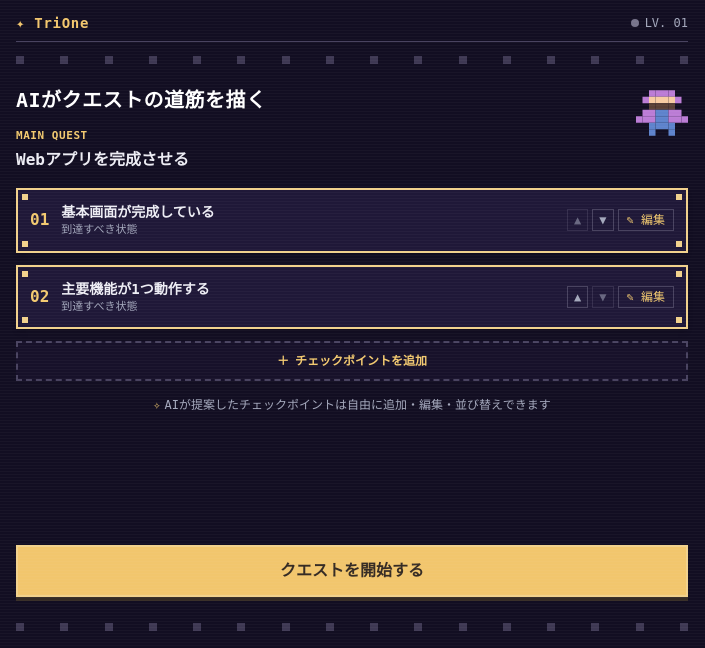
Test: CheckpointGenerationScreen › チェックポイント編集中に「キャンセル」ボタンまたは Esc キーを押すと編集前の状態に戻る
Click the button "✎ 編集" in the row of "基本画面が完成している" at {"x": 646, "y": 220}, box [618, 209, 674, 231]
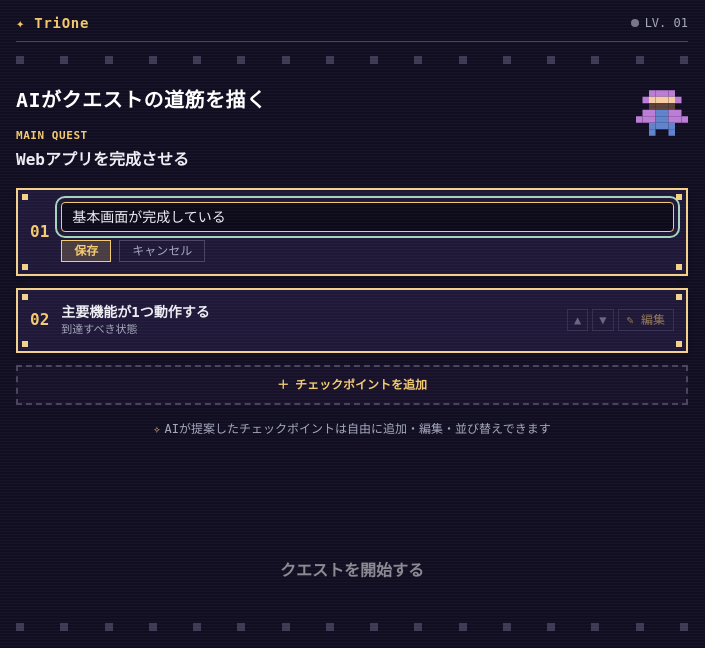
Replace the text in the field showing "基本画面が完成している" with "途中の変更" at {"x": 368, "y": 217}, box [61, 202, 674, 232]
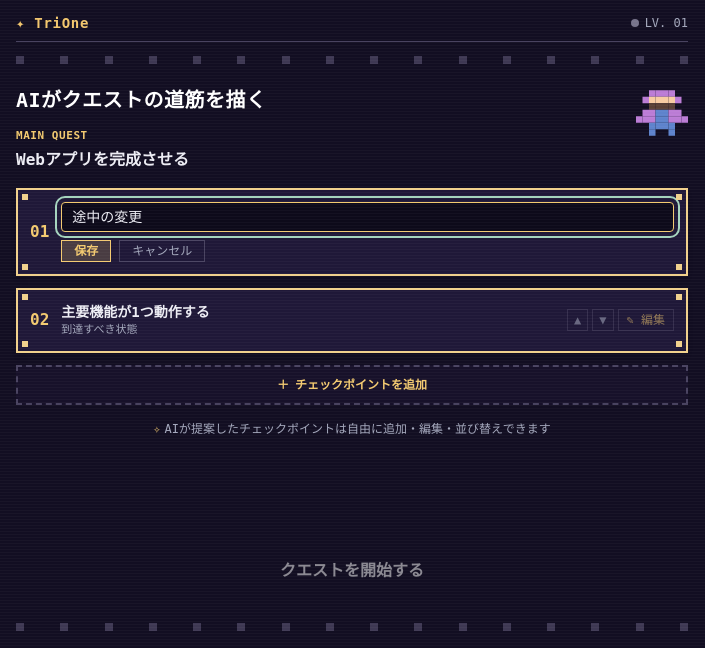
// キャンセルボタンを押す
Click the button "キャンセル" at {"x": 162, "y": 251}, box [119, 240, 205, 262]
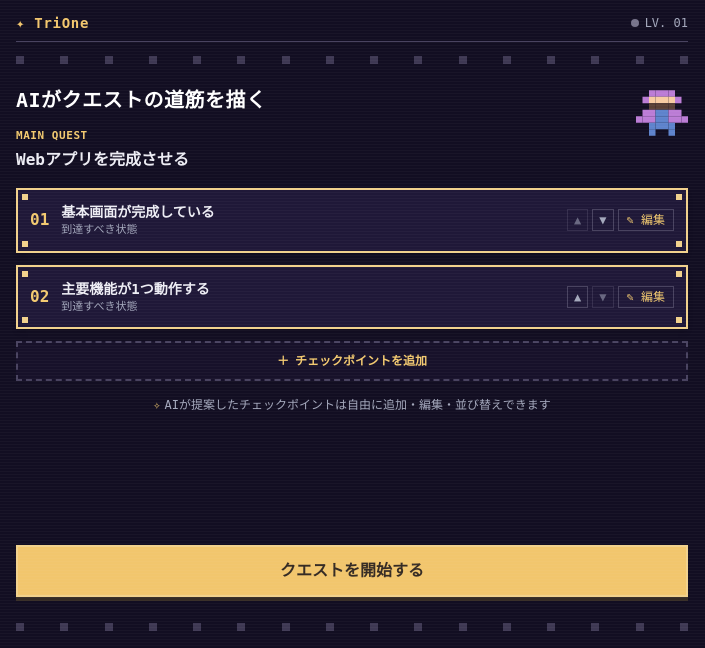
Check: the field showing "途中の変更" is not shown
Check: the heading "基本画面が完成している" is shown, box [61, 204, 215, 220]
// Esc キーでもキャンセルできることを確認
Click the button "✎ 編集" in the row of "基本画面が完成している" at {"x": 646, "y": 220}, box [618, 209, 674, 231]
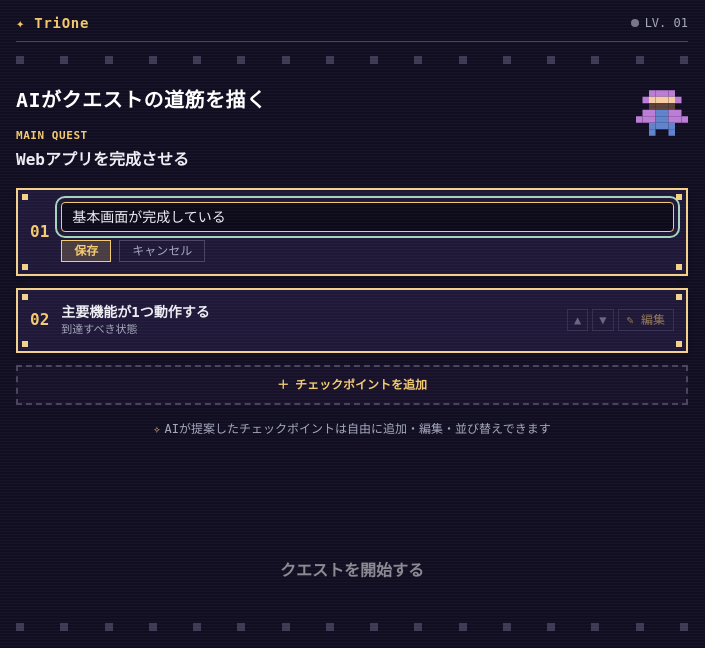
Replace the text in the field showing "基本画面が完成している" with "別の変更" at {"x": 368, "y": 217}, box [61, 202, 674, 232]
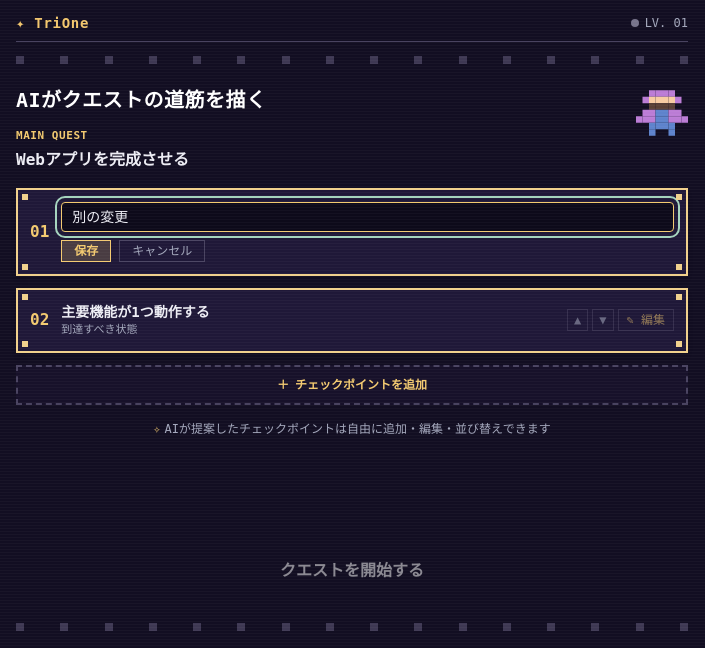
Press Escape in the field showing "基本画面が完成している", box [61, 202, 674, 232]
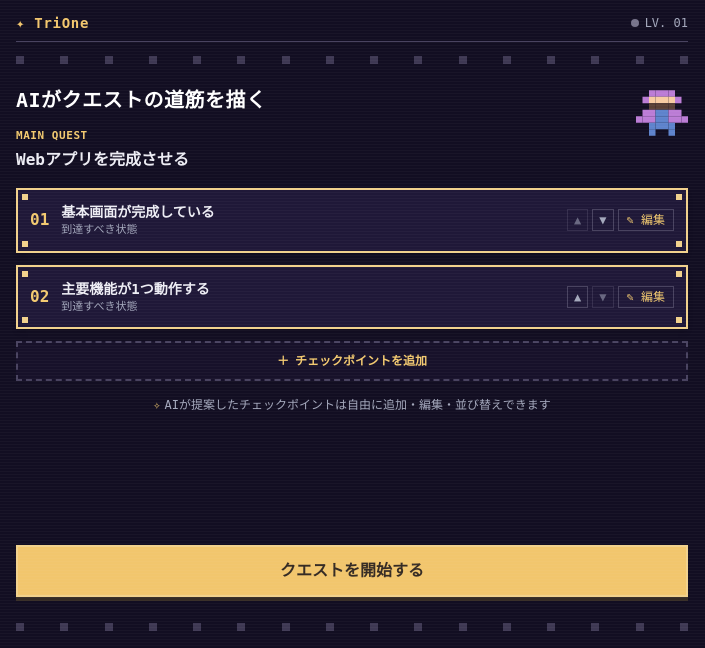
Check: the field showing "別の変更" is not shown
Check: the heading "基本画面が完成している" is shown, box [61, 204, 215, 220]
